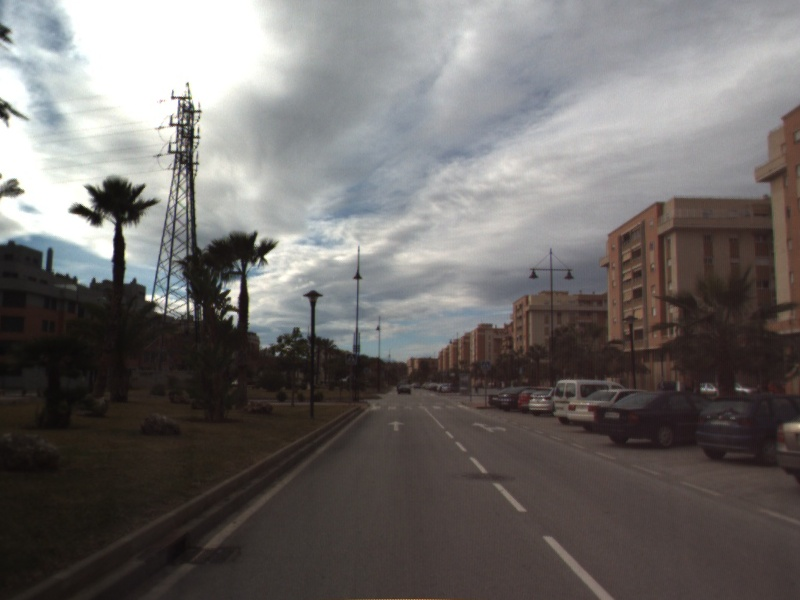STRAIGHT: (386, 419, 407, 433)
STRAIGHT_RIGHT: (470, 420, 509, 434)
